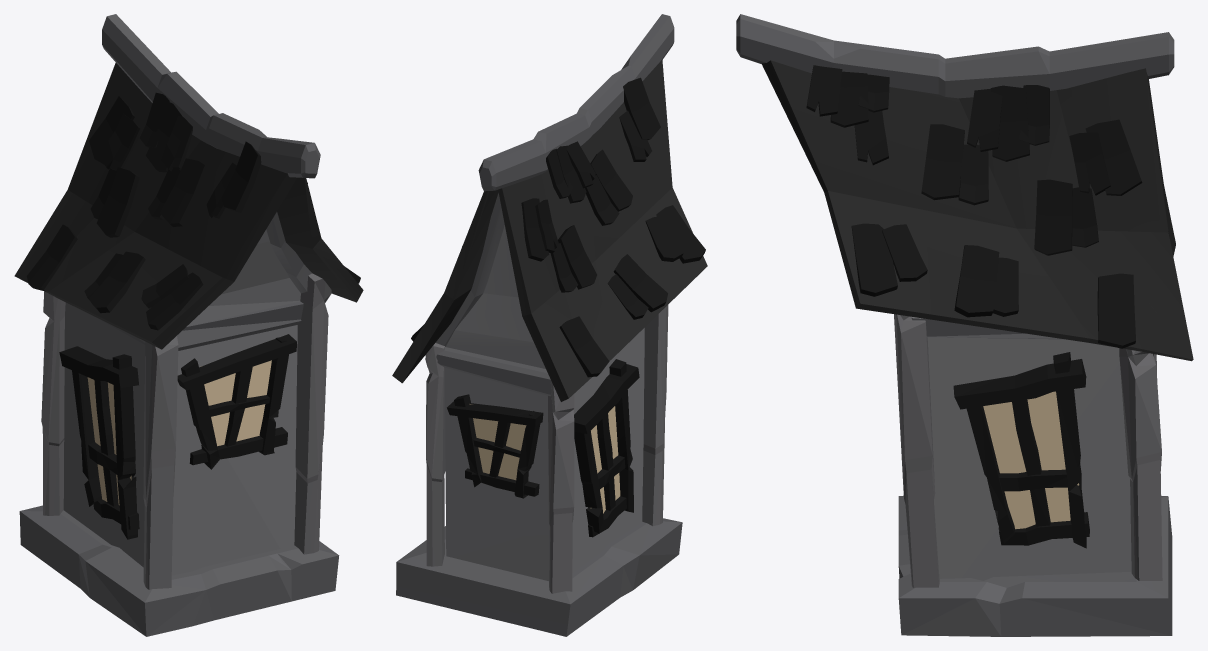
The model's file is WF_LP_HT_Build_HouseRoom.004.3.fbx.
3 views of the same model, side by side, from view 1: azimuth 30°, elevation 25°; view 2: azimuth 150°, elevation 25°; view 3: azimuth 270°, elevation 25° (orthographic). The views are drawn at different scales.
Parts seen in each view (by area): view 1: WF_LP_HT_Build_HouseRoom.004.3; view 2: WF_LP_HT_Build_HouseRoom.004.3; view 3: WF_LP_HT_Build_HouseRoom.004.3.
Boxes of the visible parts, box(x1,y1,x2,y2) form: WF_LP_HT_Build_HouseRoom.004.3: box(14, 14, 363, 636); WF_LP_HT_Build_HouseRoom.004.3: box(392, 14, 707, 636); WF_LP_HT_Build_HouseRoom.004.3: box(736, 14, 1193, 636).
Size of the model in its own units: 2.67 by 6.15 by 4.5.
